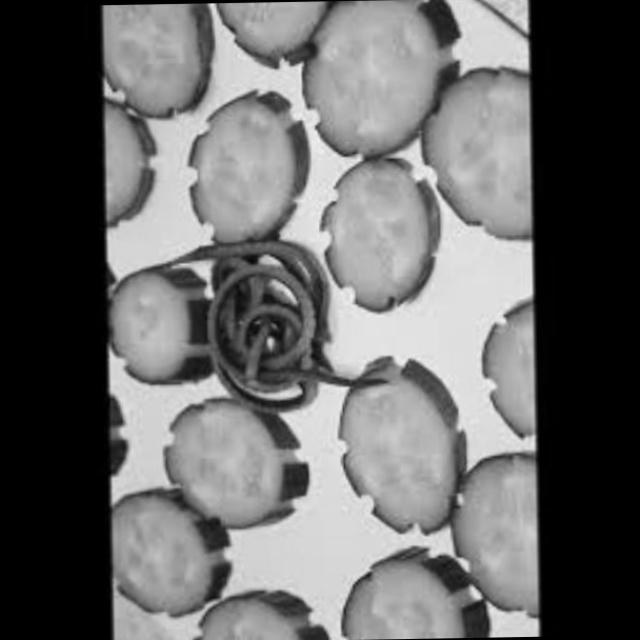dua chuot: (298, 0, 466, 171), (150, 384, 318, 541), (326, 353, 462, 535), (416, 62, 534, 244), (183, 88, 313, 250), (97, 481, 237, 624), (318, 158, 452, 306), (92, 258, 212, 396), (332, 546, 490, 638), (83, 2, 207, 118), (454, 450, 537, 620), (76, 100, 157, 240), (171, 577, 334, 640), (474, 290, 539, 446), (207, 0, 327, 74)
